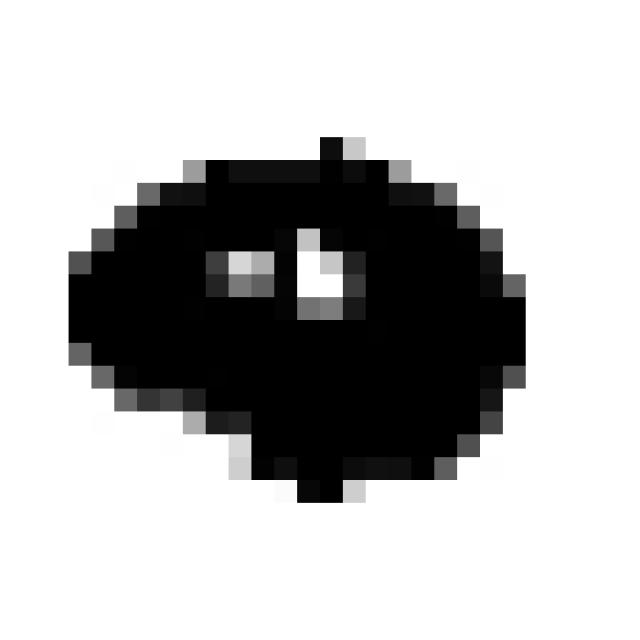0 -zero-: (48, 117, 547, 528)
